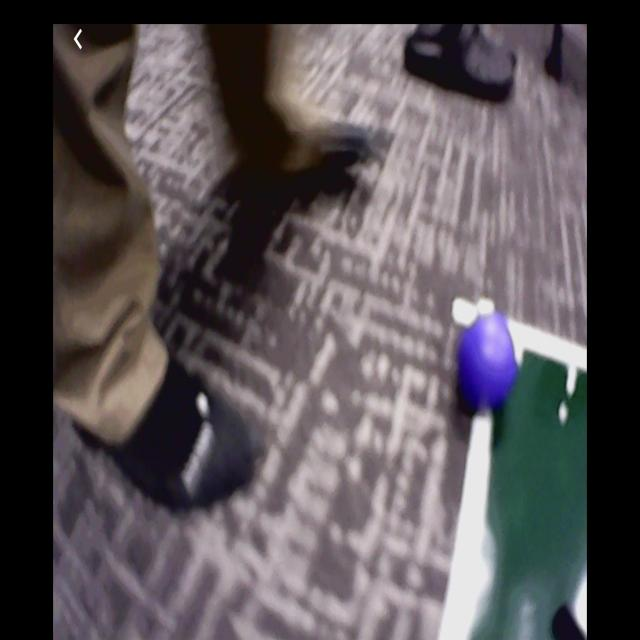ball: (456, 311, 517, 407)
